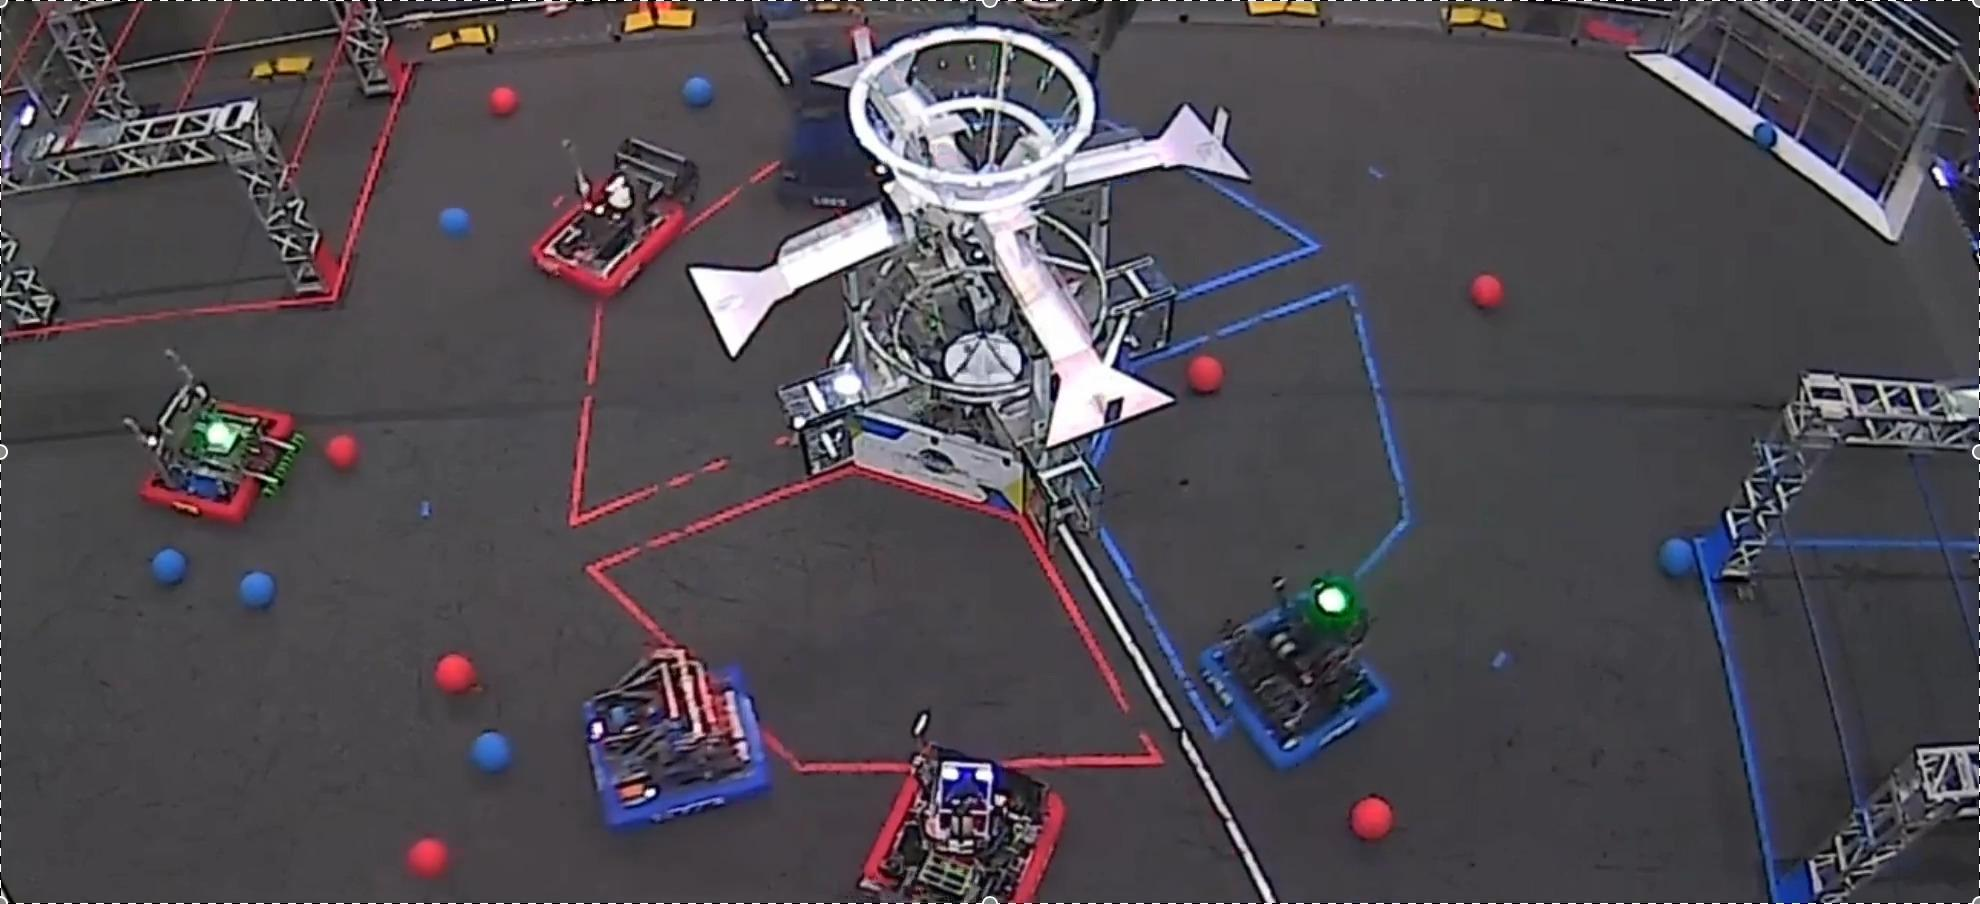Robots: (860, 713, 1065, 901), (1200, 577, 1387, 766), (583, 648, 769, 830), (122, 350, 303, 523), (745, 8, 886, 210), (532, 138, 698, 297)
